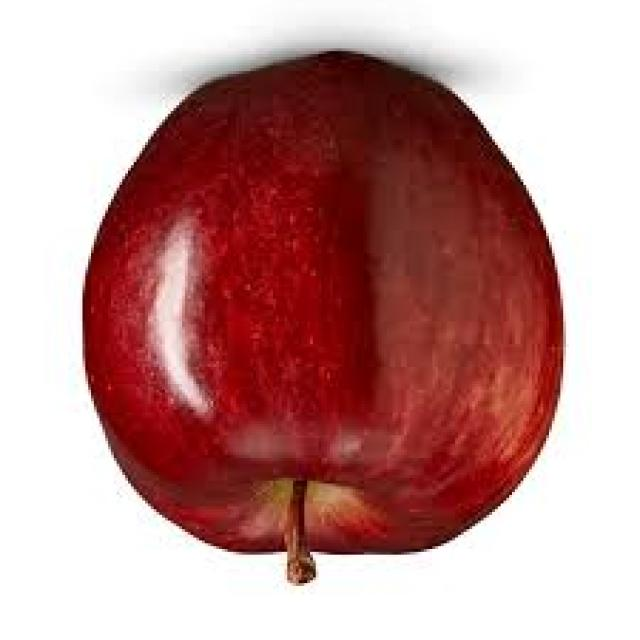apple: (79, 36, 572, 566)
